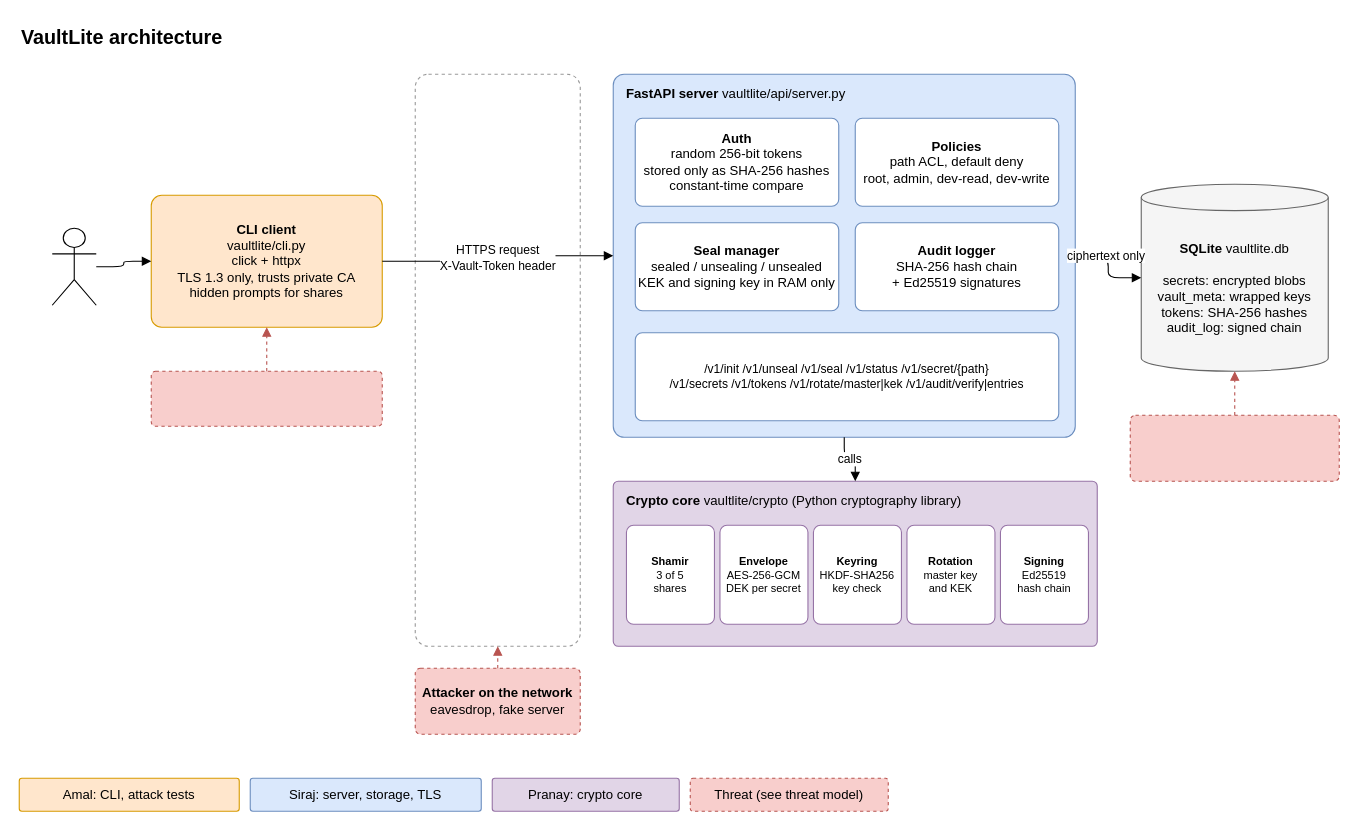
Some shapes in this 1359 by 831 pixel diagram are drawn without their labels. Each missing label, with the centre of its shape:
Attacker with the DB file read, edit, replay, delete: the point at 1234,447
Insider read-only token, fake shares: the point at 266,398
Network HTTPS, TLS 1.3 server certificate signed by the VaultLite private CA: the point at 497,359
Operator / custodians: the point at 73,266
